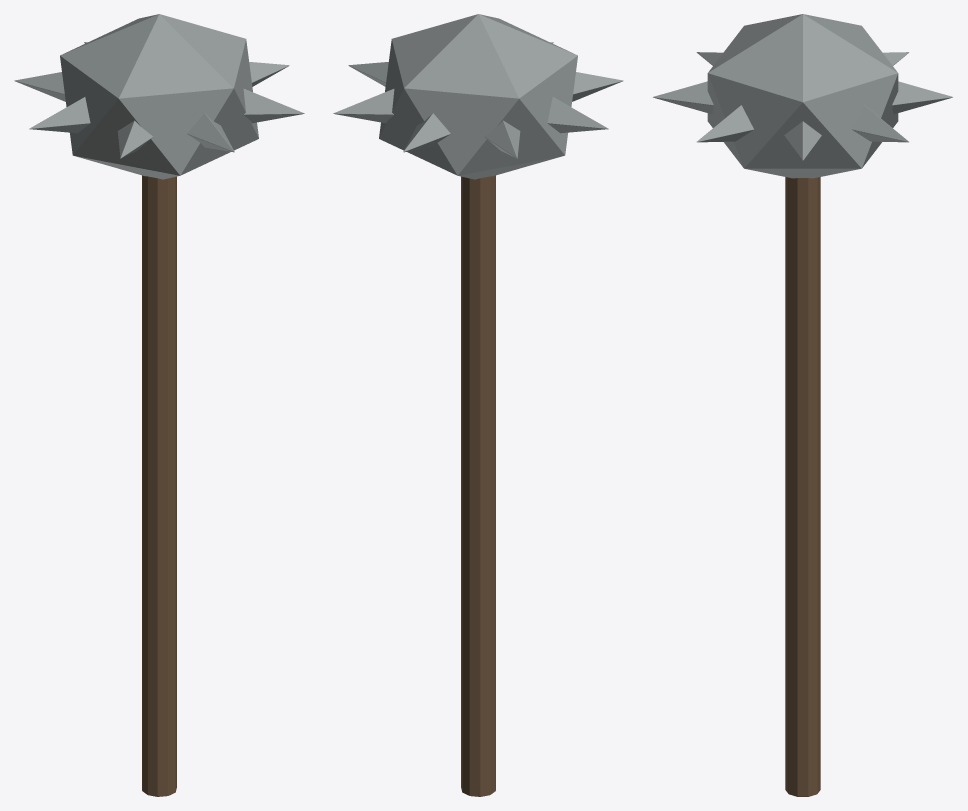
The model's file is mace.glb.
3 views of the same model, side by side, from view 1: azimuth 30°, elevation 25°; view 2: azimuth 150°, elevation 25°; view 3: azimuth 270°, elevation 25° (orthographic).
Parts seen in each view (by area): view 1: MaceFlange, MaceGrip; view 2: MaceFlange, MaceGrip; view 3: MaceFlange, MaceGrip.
Boxes of the visible parts, x1,y1,x2,y2 form: MaceFlange: [14, 14, 304, 179]; MaceGrip: [142, 175, 176, 796]; MaceFlange: [333, 14, 623, 179]; MaceGrip: [461, 175, 495, 796]; MaceFlange: [653, 14, 952, 178]; MaceGrip: [785, 177, 820, 796].
Size of the model in its own units: 22.84 by 64.97 by 22.84.
